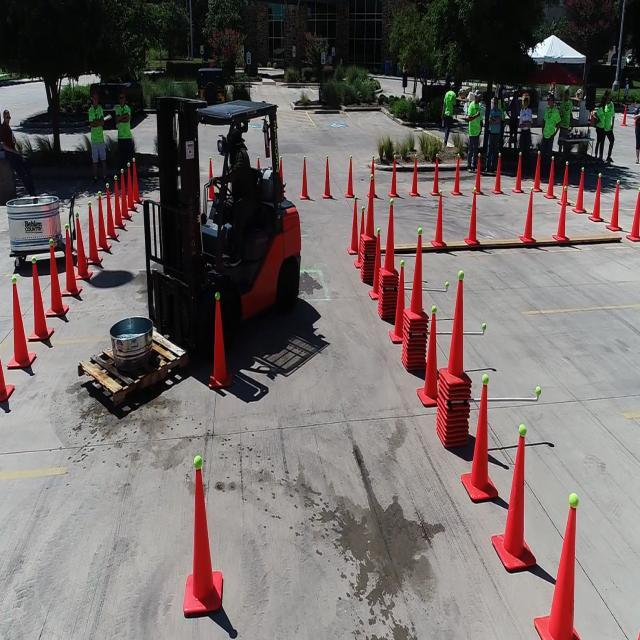driver: (213, 133, 263, 252)
forklift: (143, 94, 300, 314)
person: (86, 90, 105, 167), (114, 89, 132, 154), (543, 94, 557, 154), (469, 88, 481, 146), (560, 90, 574, 138), (604, 90, 614, 135), (520, 98, 532, 134), (444, 85, 456, 118), (491, 98, 498, 137)
